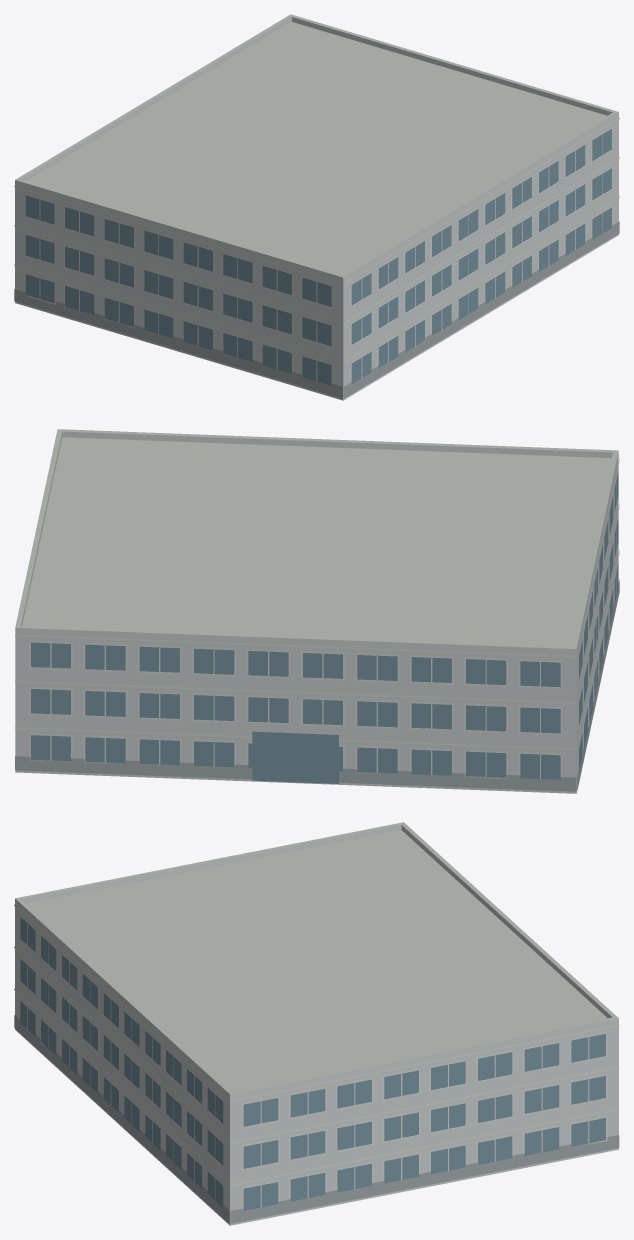
The model's file is public-244b6d24-5eec-43ed-a3d6-0daa26f08764.glb.
3 views of the same model, one above another, from view 1: azimuth 30°, elevation 25°; view 2: azimuth 150°, elevation 25°; view 3: azimuth 270°, elevation 25° (orthographic). The views are drawn at different scales.
Visible parts, largest first — view 1: public-244b6d24-5eec-43ed-a3d6-0daa26f08764; view 2: public-244b6d24-5eec-43ed-a3d6-0daa26f08764; view 3: public-244b6d24-5eec-43ed-a3d6-0daa26f08764.
Part boxes in pixels (box(x1,y1,x2,y2)): public-244b6d24-5eec-43ed-a3d6-0daa26f08764: box(14, 14, 619, 400); public-244b6d24-5eec-43ed-a3d6-0daa26f08764: box(15, 429, 619, 793); public-244b6d24-5eec-43ed-a3d6-0daa26f08764: box(14, 822, 619, 1225).
Size of the model in its own units: 40.82 by 9.15 by 38.27.
